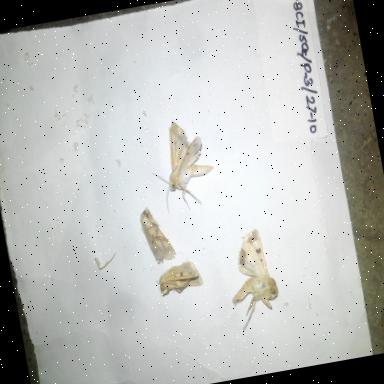abw: (143, 115, 224, 218), (216, 222, 287, 335), (134, 199, 180, 270), (152, 256, 208, 304)
